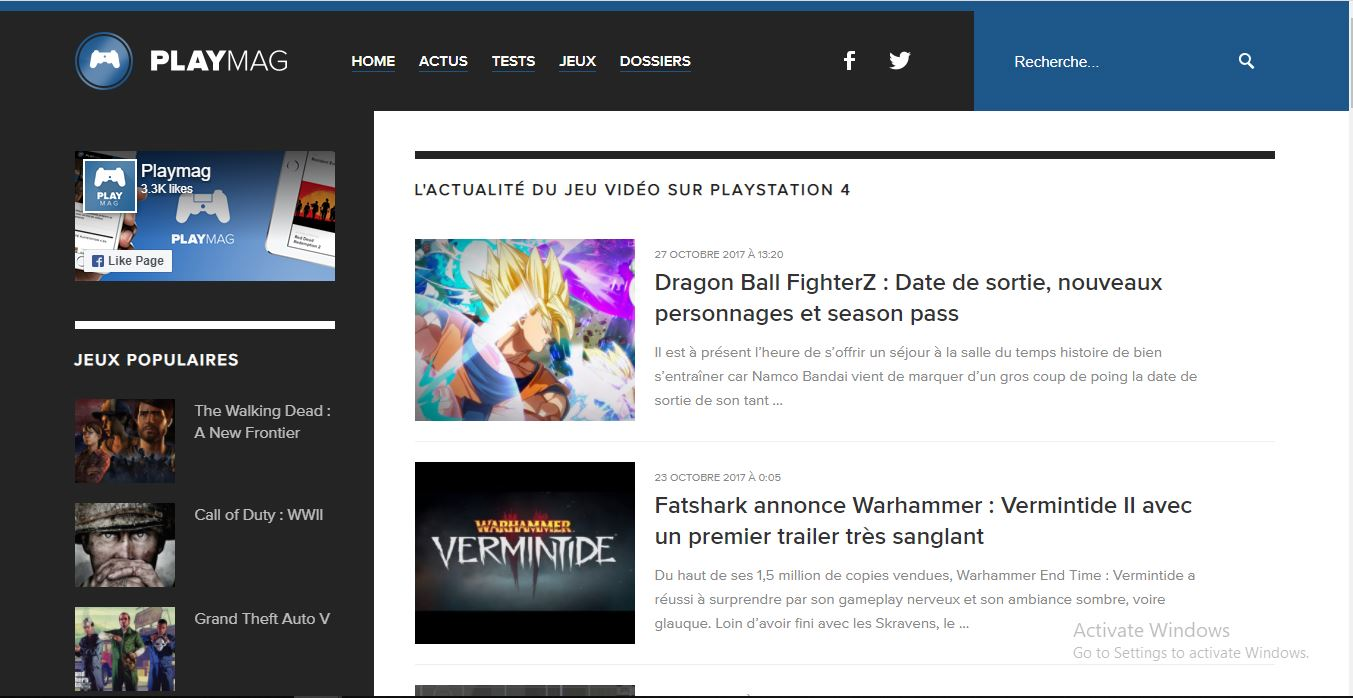Menu Bar: (331, 42, 707, 83)
Side Bar: (52, 112, 359, 698)
Text Field: (997, 40, 1262, 87)
